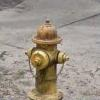Hydrant: (26, 17, 67, 100)
